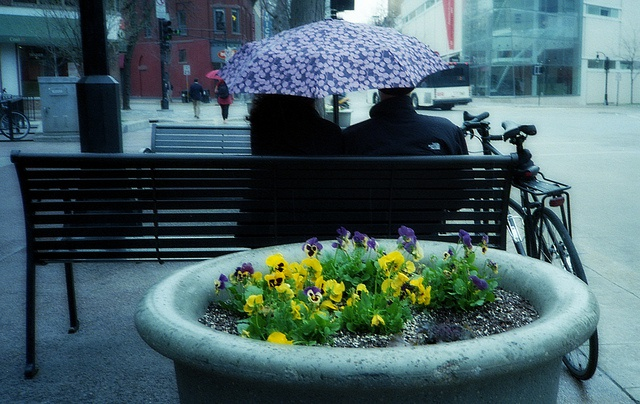non-vehicle: (458, 108, 598, 379), (0, 86, 32, 142)
